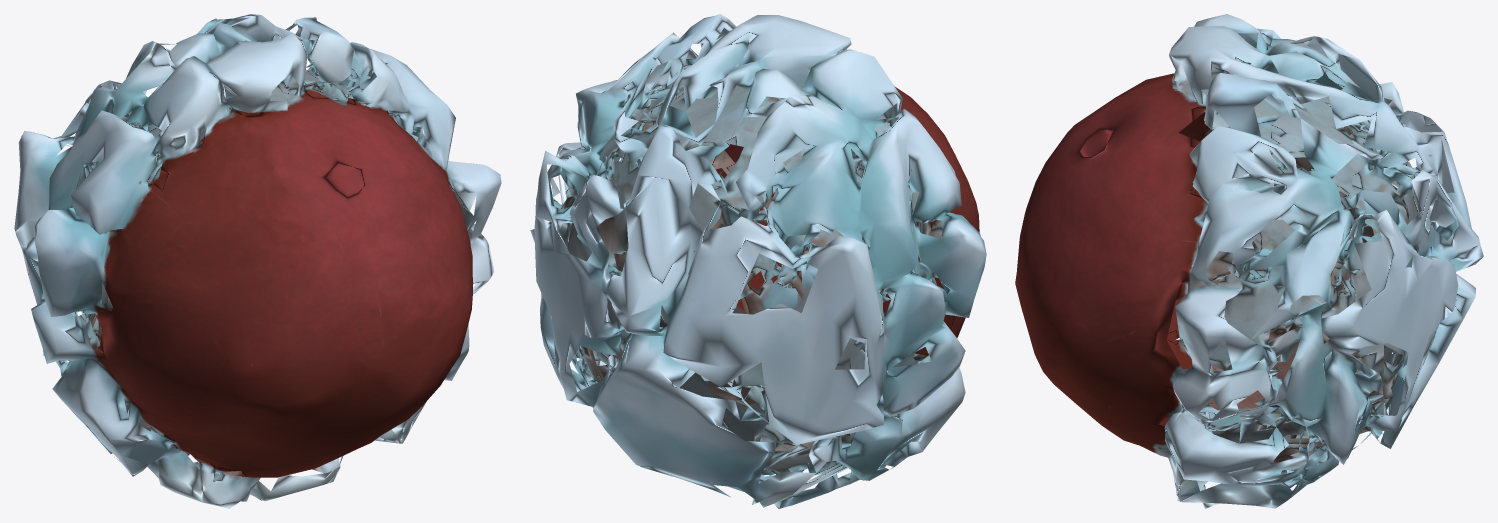
The model's file is led-valun-v-shube.glb.
3 views of the same model, side by side, from view 1: azimuth 30°, elevation 25°; view 2: azimuth 150°, elevation 25°; view 3: azimuth 270°, elevation 25° (orthographic). The views are drawn at different scales.
Visible parts, largest first — view 1: geometry_0; view 2: geometry_0; view 3: geometry_0.
Part boxes in pixels (x1,y1,x2,y2): geometry_0: (14,14,501,508); geometry_0: (530,14,986,508); geometry_0: (1015,14,1483,508).
Bounding box in the file's own units: 0.9967 × 0.9629 × 0.9308.
Materials: 1 (1 with a texture image).
